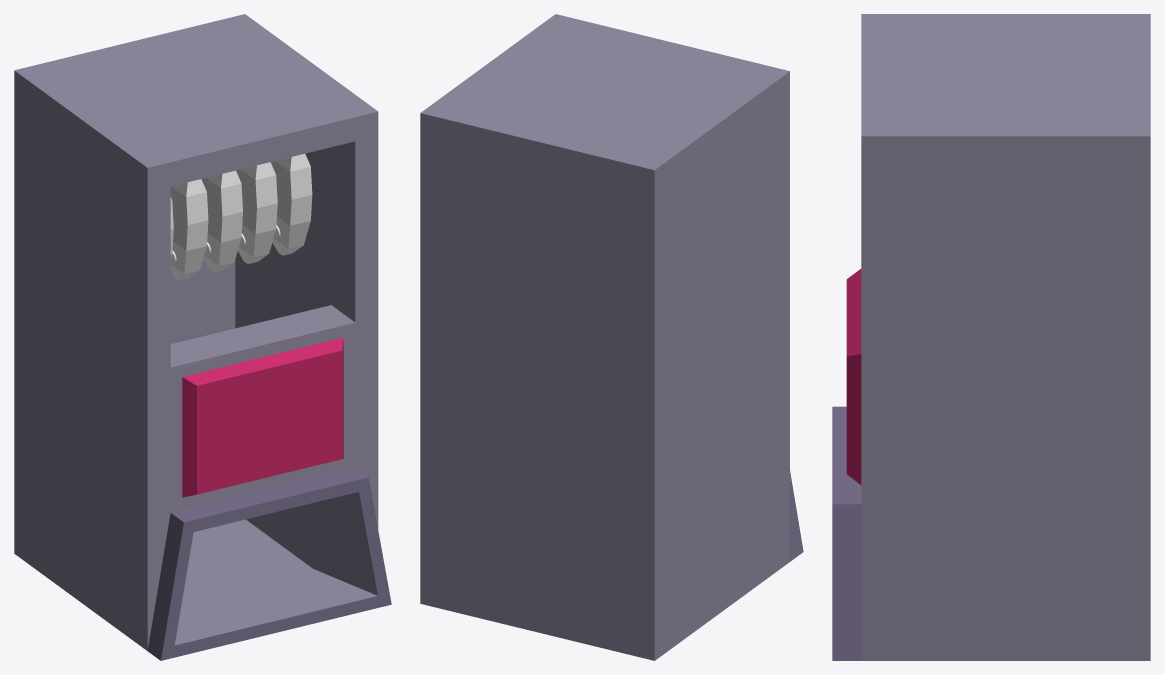
The model's file is FishMachine.fbx.
The picture shows the model from 3 angles, left to right: view 1: azimuth 30°, elevation 25°; view 2: azimuth 150°, elevation 25°; view 3: azimuth 270°, elevation 25°; orthographic projection. The views are drawn at different scales.
Parts seen in each view (by area): view 1: FishMachine, Fish.008, Fish.005, Fish.009, Fish.007; view 2: FishMachine; view 3: FishMachine.
Boxes of the visible parts, x1,y1,x2,y2 form: FishMachine: (14,14,391,660); Fish.008: (236,162,277,263); Fish.005: (270,153,312,255); Fish.009: (201,170,242,272); Fish.007: (170,179,208,280); FishMachine: (420,14,803,660); FishMachine: (832,14,1150,660).
Bounding box in the file's own units: 200 × 400 × 220.
